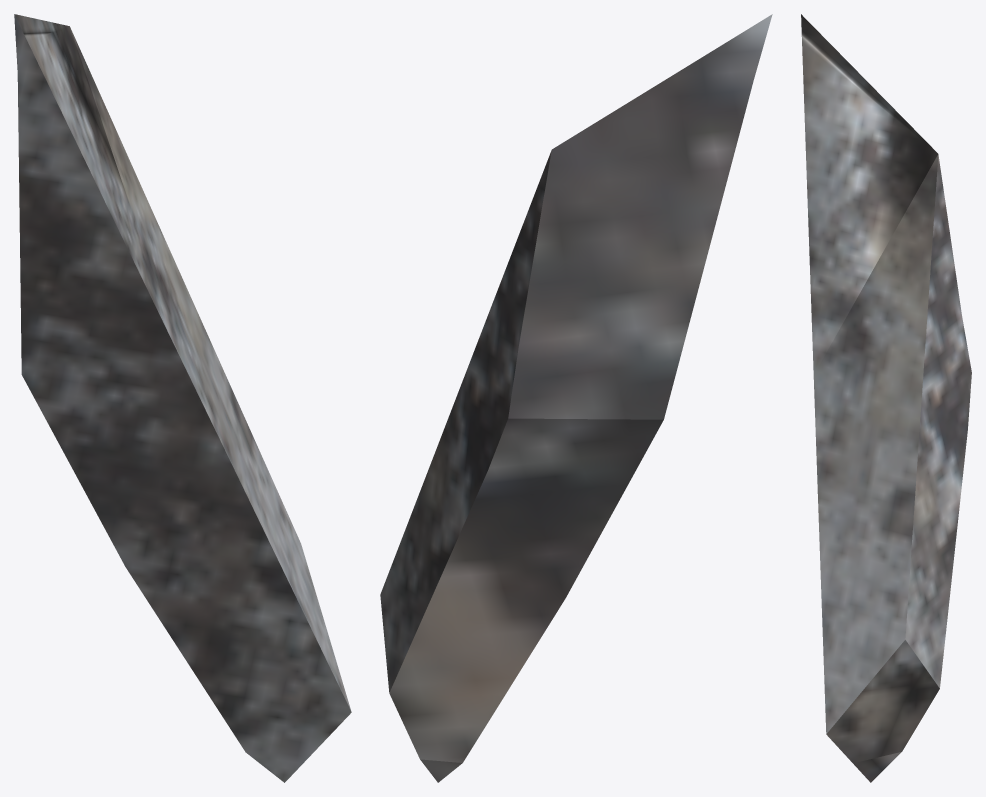
File: Asteroid_Large_001_02_003_03_021.fbx
The picture shows the model from 3 angles, left to right: view 1: azimuth 30°, elevation 25°; view 2: azimuth 150°, elevation 25°; view 3: azimuth 270°, elevation 25°; orthographic projection. The views are drawn at different scales.
Parts seen in each view (by area): view 1: Asteroid_Large_001_02_003_03_021; view 2: Asteroid_Large_001_02_003_03_021; view 3: Asteroid_Large_001_02_003_03_021.
Part boxes in pixels (x1=…): Asteroid_Large_001_02_003_03_021: x1=14, y1=14, x2=351, y2=782; Asteroid_Large_001_02_003_03_021: x1=380, y1=14, x2=772, y2=782; Asteroid_Large_001_02_003_03_021: x1=801, y1=14, x2=971, y2=782.
Bounding box in the file's own units: 2.19 × 5.16 × 1.22.
